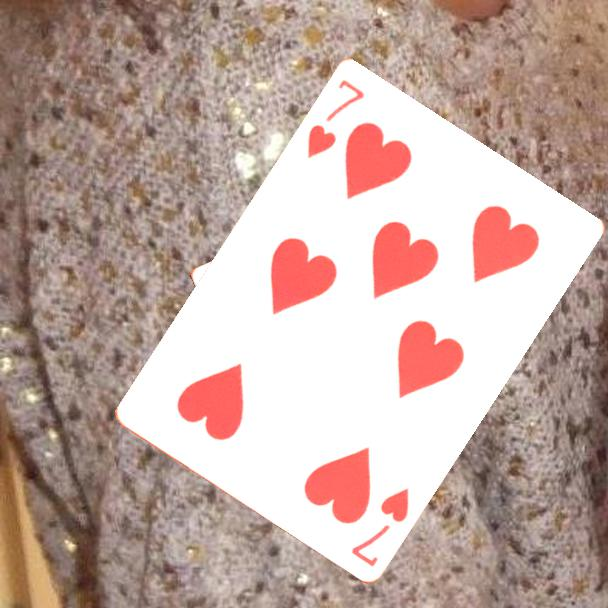h07: (303, 75, 368, 161), (347, 483, 412, 569)
